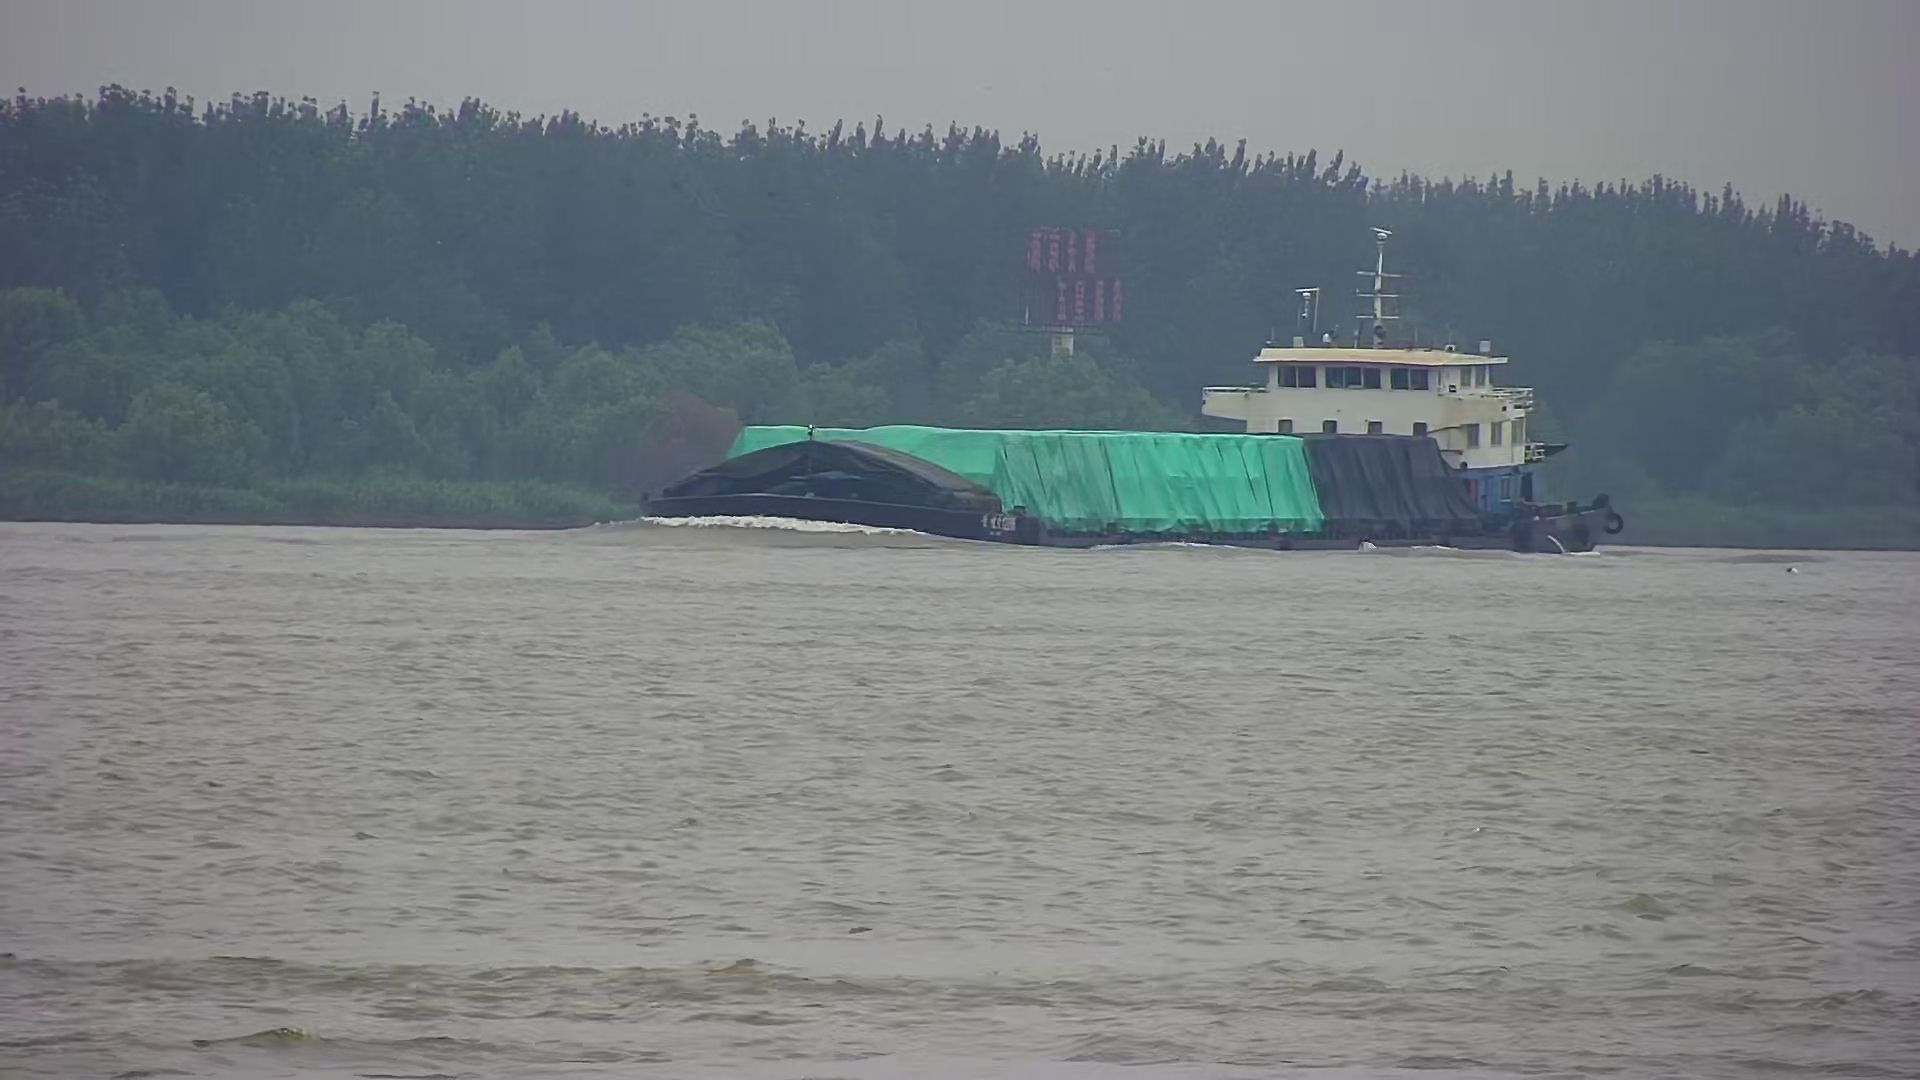ship: (637, 311, 1621, 567)
